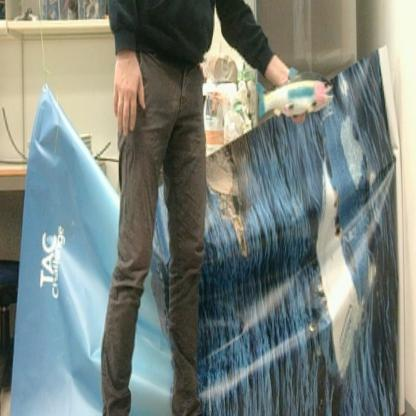rubberfish: (258, 64, 338, 124)
